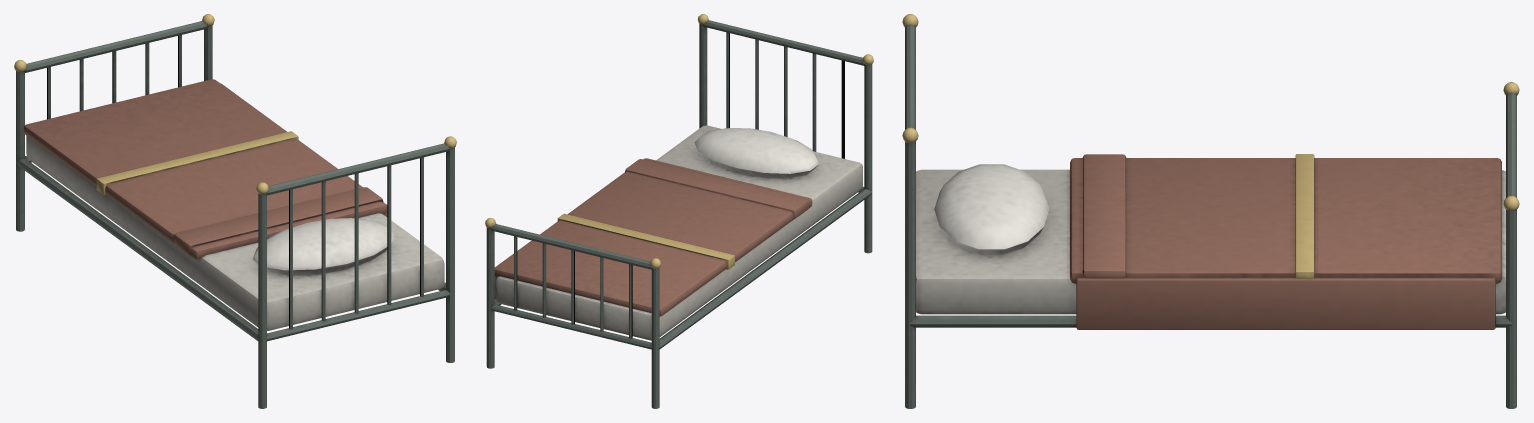
The model's file is soviet_bed.glb.
The picture shows the model from 3 angles, left to right: view 1: azimuth 30°, elevation 25°; view 2: azimuth 150°, elevation 25°; view 3: azimuth 270°, elevation 25°; orthographic projection. The views are drawn at different scales.
Visible parts, largest first — view 1: soviet_bed; view 2: soviet_bed; view 3: soviet_bed.
Part boxes in pixels (box(x1,y1,x2,y2)): soviet_bed: box(14, 14, 456, 408); soviet_bed: box(485, 14, 873, 408); soviet_bed: box(902, 14, 1519, 408).
Bounding box in the file's own units: 0.9122 × 0.981 × 1.97.
Materials: 1 (1 with a texture image).
